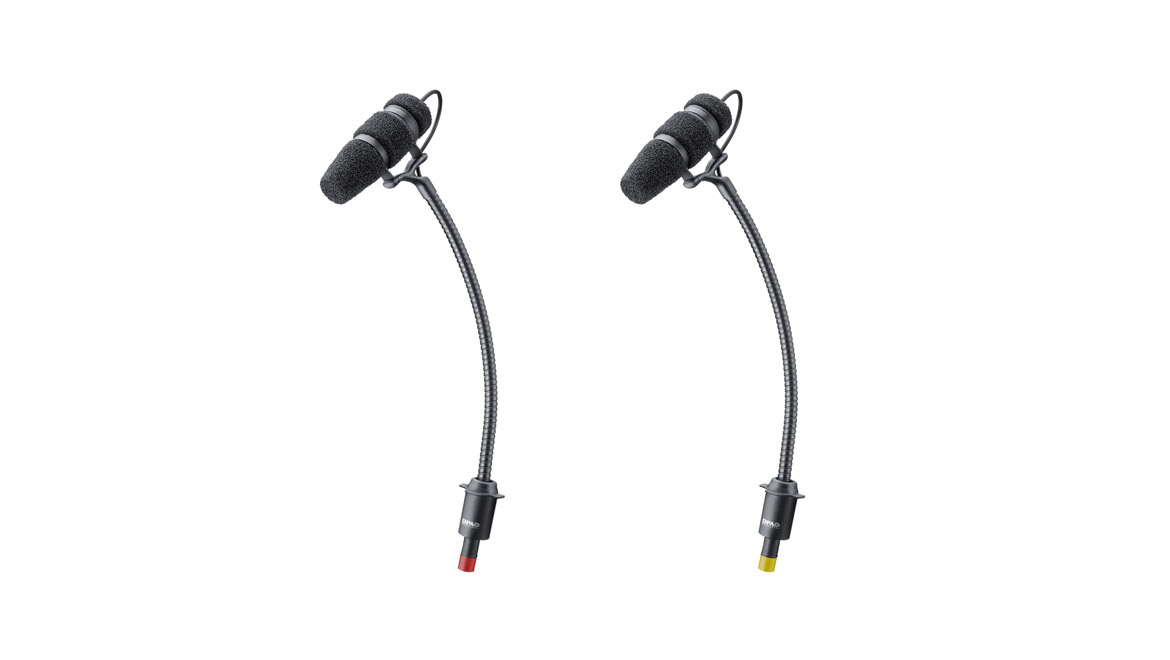microphone: (311, 86, 448, 216), (617, 86, 742, 210)
